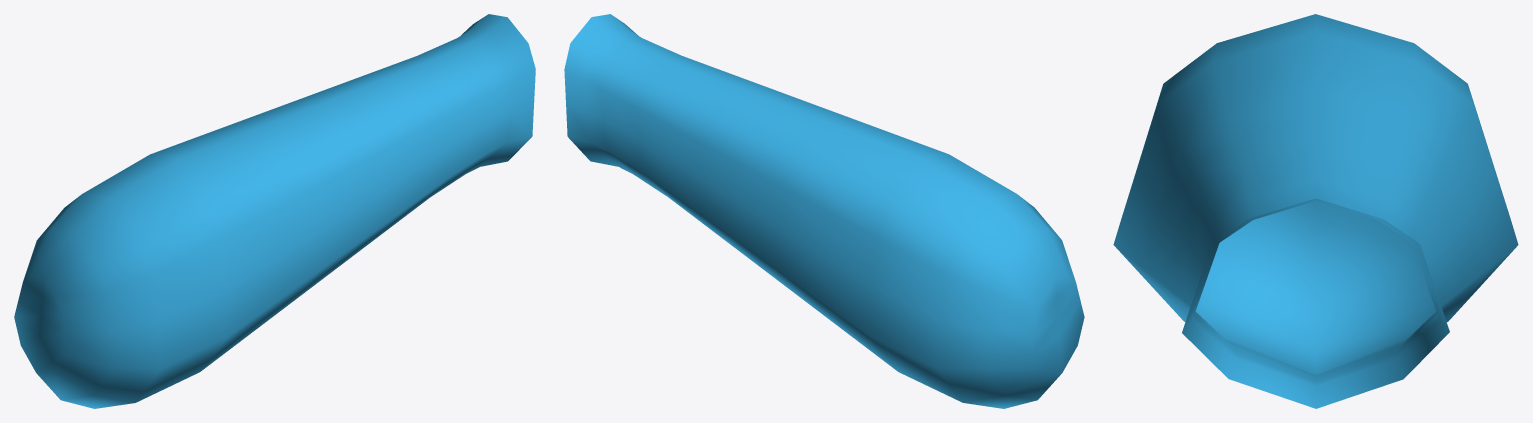
File: Hand.fbx
The picture shows the model from 3 angles, left to right: view 1: azimuth 30°, elevation 25°; view 2: azimuth 150°, elevation 25°; view 3: azimuth 270°, elevation 25°; orthographic projection. The views are drawn at different scales.
Visible parts, largest first — view 1: Cube.001; view 2: Cube.001; view 3: Cube.001.
Part boxes in pixels (box(x1,y1,x2,y2)): Cube.001: box(14, 14, 535, 408); Cube.001: box(564, 14, 1084, 408); Cube.001: box(1113, 14, 1518, 408).
Bounding box in the file's own units: 216 × 127 × 94.91.
